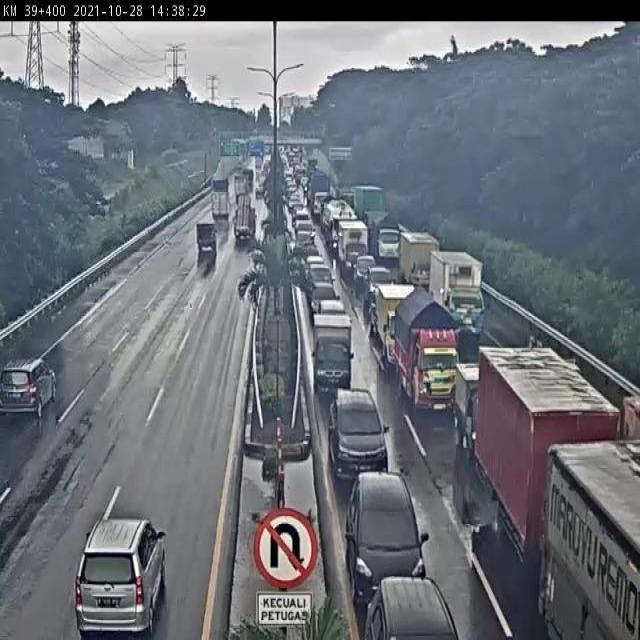big truck: (469, 342, 629, 566), (530, 446, 640, 640), (429, 249, 489, 336), (357, 188, 386, 231), (311, 170, 330, 218)
car: (71, 502, 172, 640), (340, 472, 428, 585), (1, 332, 79, 437), (358, 574, 475, 640), (330, 395, 383, 473), (315, 321, 354, 387), (459, 371, 487, 457), (350, 249, 380, 296), (365, 266, 390, 314), (305, 280, 338, 313), (311, 298, 355, 322), (307, 258, 336, 290), (290, 208, 314, 233), (296, 239, 322, 260), (290, 197, 305, 215), (284, 175, 296, 192), (287, 185, 299, 199)
small truck: (393, 282, 463, 418), (374, 279, 418, 384), (400, 236, 441, 295), (335, 223, 367, 281), (338, 216, 366, 276), (370, 224, 403, 264), (232, 199, 257, 248), (195, 213, 220, 256), (212, 184, 235, 219), (255, 168, 271, 195), (233, 167, 249, 192), (209, 167, 227, 189)
